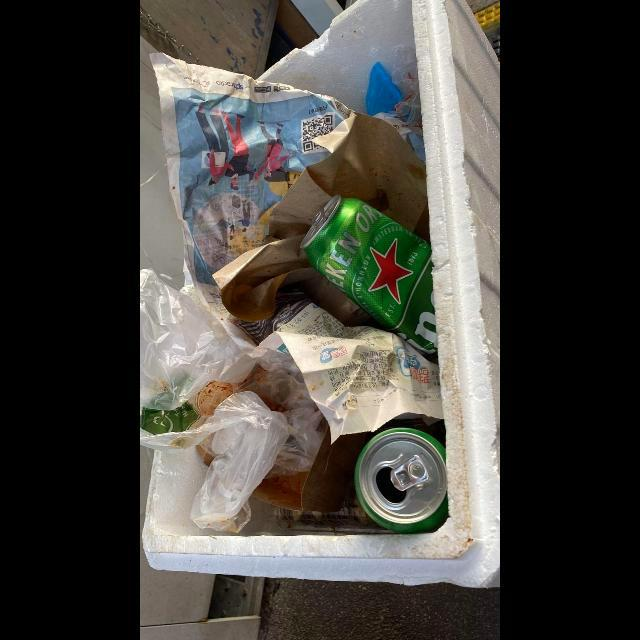aluminum: (299, 195, 438, 358), (354, 428, 448, 534)
paper: (148, 52, 444, 446)
plastic_bag: (140, 266, 327, 534)
